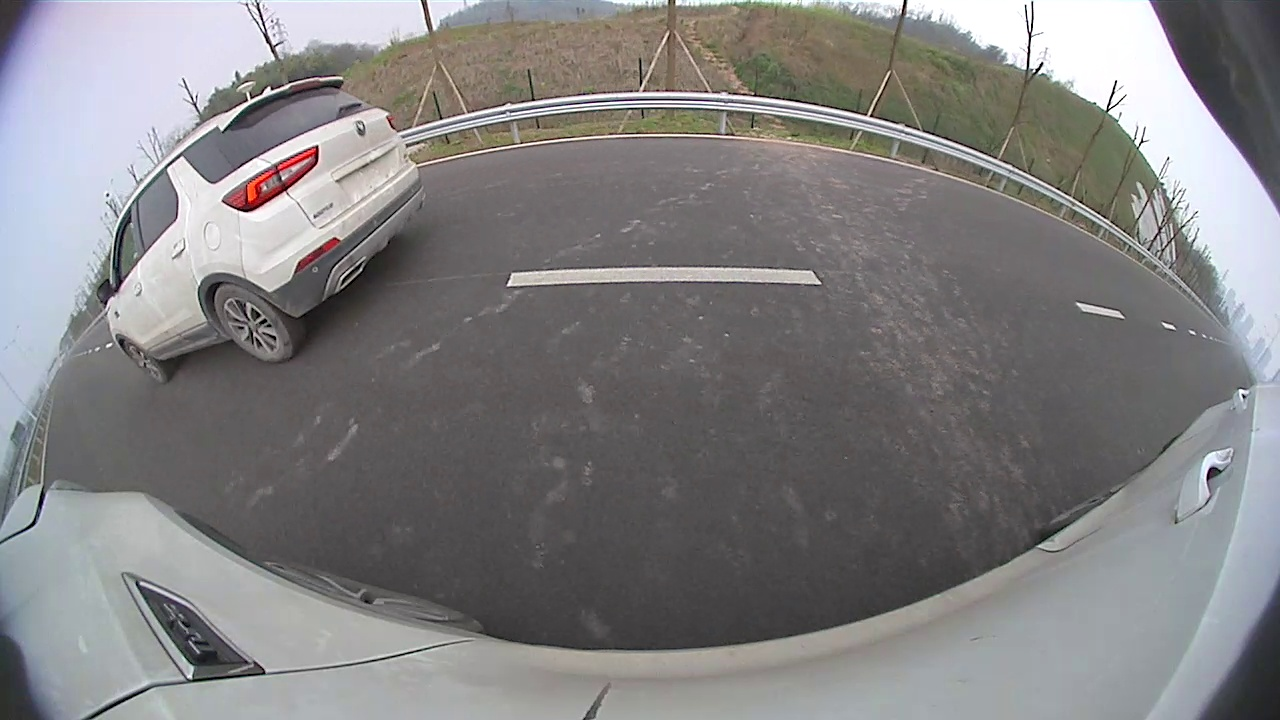car: (97, 76, 424, 385)
front: (123, 338, 168, 385)
rear: (212, 284, 294, 364)
